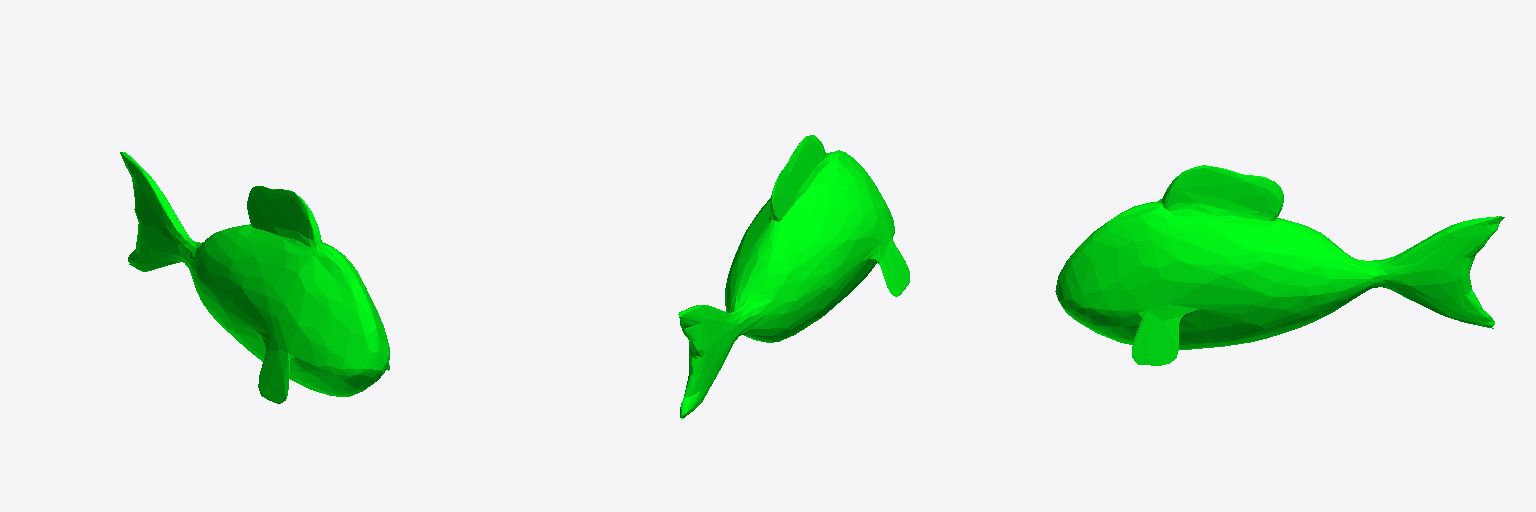
Rendered from FCrappie.obj.
3 renders of one model, left to right at view 1: azimuth 30°, elevation 25°; view 2: azimuth 150°, elevation 25°; view 3: azimuth 270°, elevation 25°, orthographic.
Parts seen in each view (by area): view 1: fish_low_poly; view 2: fish_low_poly; view 3: fish_low_poly.
Part boxes in pixels (bbox=[...]): fish_low_poly: bbox=[120, 152, 389, 403]; fish_low_poly: bbox=[678, 135, 909, 419]; fish_low_poly: bbox=[1055, 165, 1504, 365].
Bounding box in the file's own units: 0.2685 × 0.3772 × 0.8415.